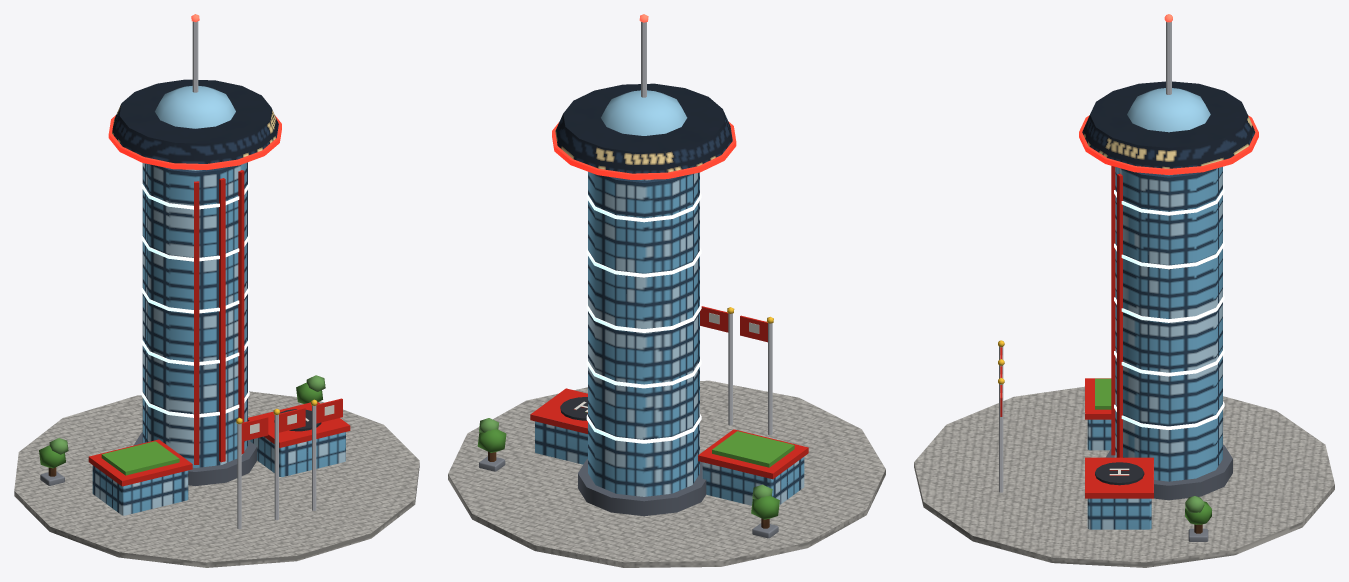
File: residence_dl7_red.glb
3 views of the same model, side by side, from view 1: azimuth 30°, elevation 25°; view 2: azimuth 150°, elevation 25°; view 3: azimuth 270°, elevation 25° (orthographic). The views are drawn at different scales.
Parts seen in each view (by area): view 1: residence_dl7_red; view 2: residence_dl7_red; view 3: residence_dl7_red.
Part boxes in pixels (x1,y1,x2,y2): residence_dl7_red: (14,14,419,567); residence_dl7_red: (448,14,885,567); residence_dl7_red: (914,14,1334,567).
Bounding box in the file's own units: 1.71 × 2.08 × 1.71.
4 materials, 1 textured.
